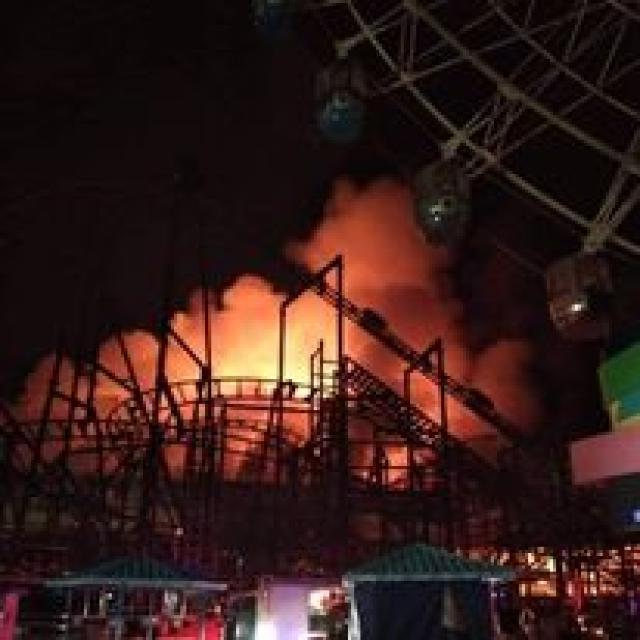Smoke: (43, 184, 547, 476)
